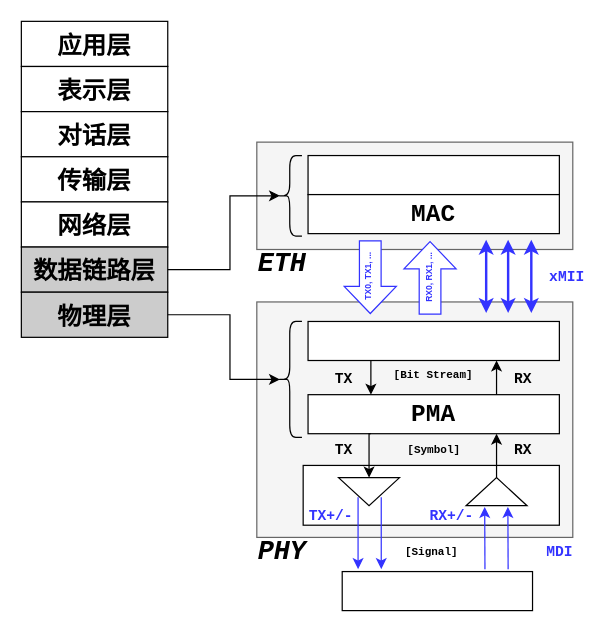
This 606x632 diagram has some shape labels left out. Each missing label, with the box of its shape:
LLC: (307, 154, 559, 195)
Media: (341, 570, 533, 611)
PLS/PCS: (307, 320, 559, 361)
